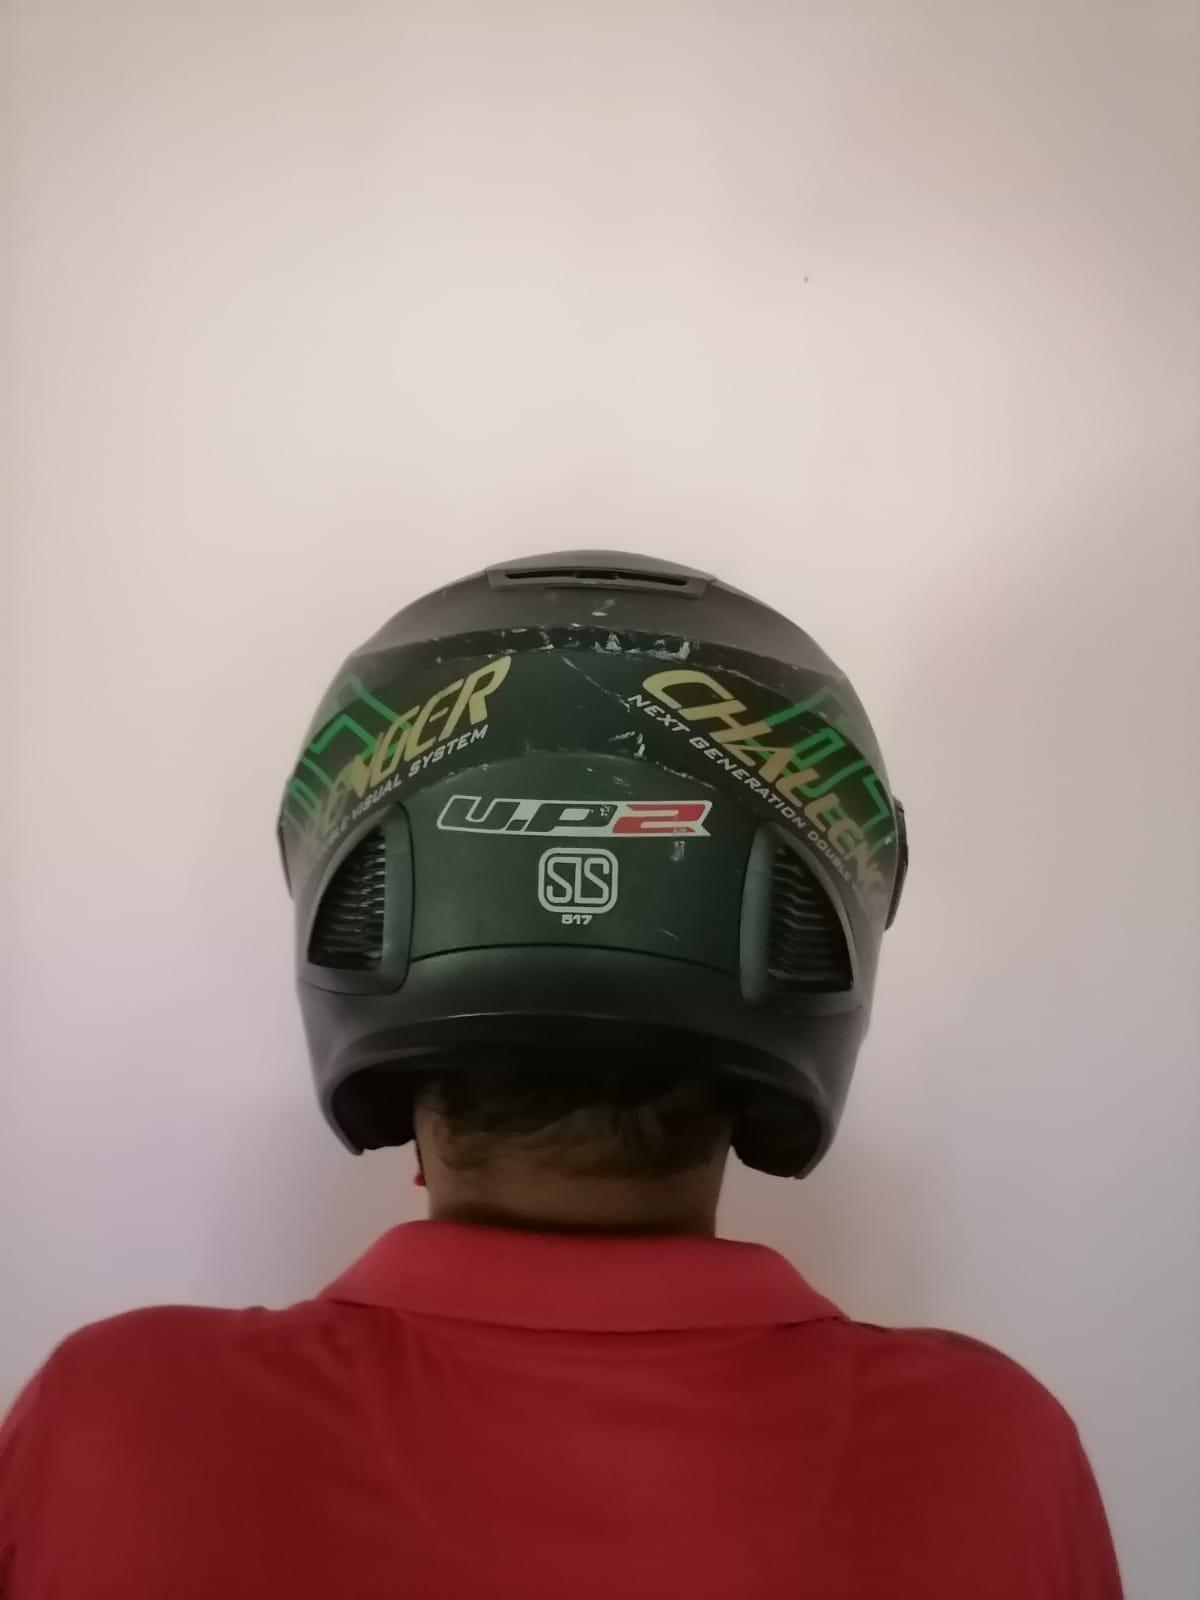helmet: (274, 546, 909, 1191)
